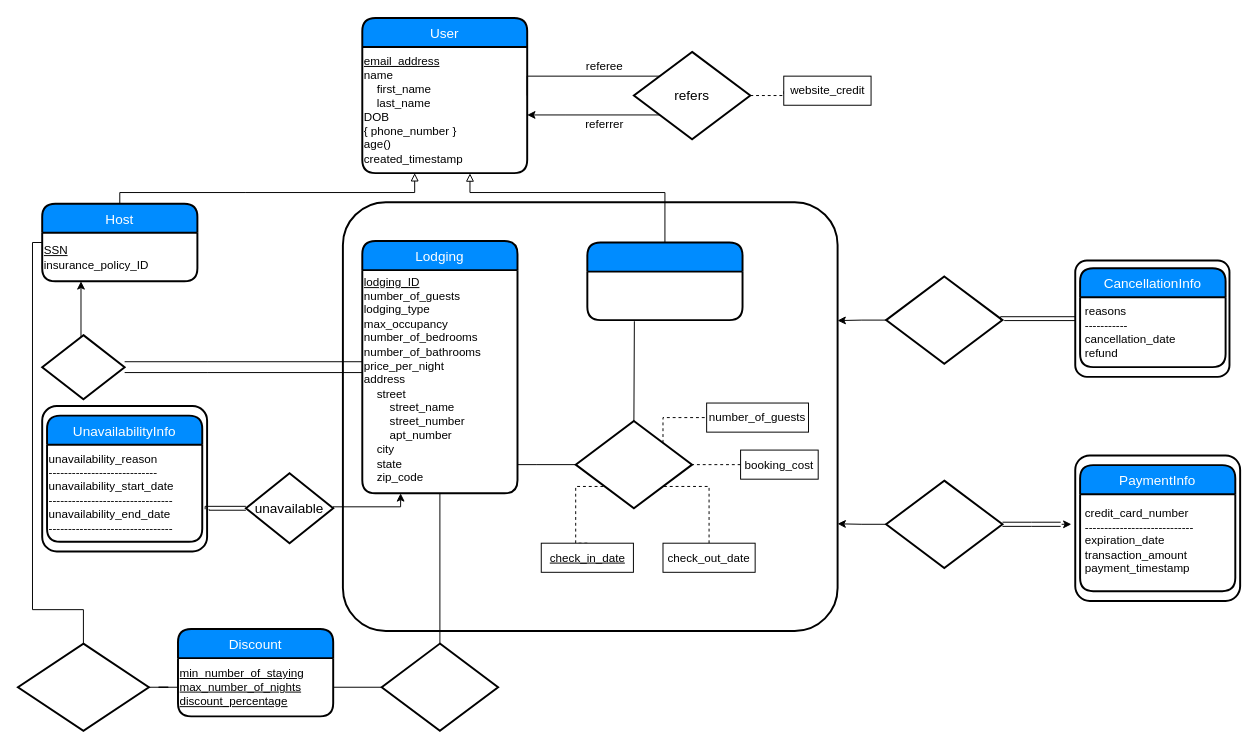
Some shapes in this 1257 by 748 pixel diagram are drawn without their labels. Each missing label, with the centre of its shape:
applies: (x=439, y=686)
books: (x=633, y=464)
cancels_with: (x=944, y=319)
discount_offers: (x=82, y=686)
Guest: (x=664, y=281)
offers: (x=83, y=367)
pays_with: (x=944, y=523)
